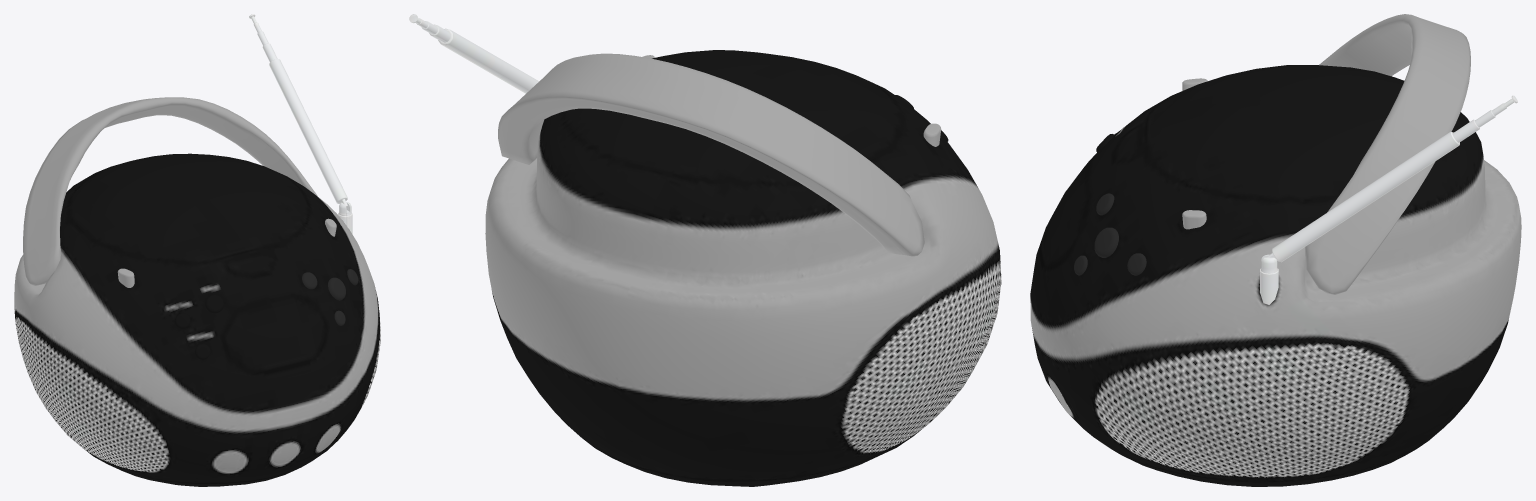
The model's file is BoomBox.glb.
3 renders of one model, left to right at view 1: azimuth 30°, elevation 25°; view 2: azimuth 150°, elevation 25°; view 3: azimuth 270°, elevation 25°, orthographic. The views are drawn at different scales.
Visible parts, largest first — view 1: BoomBox; view 2: BoomBox; view 3: BoomBox.
Part boxes in pixels (box(x1,y1,x2,y2)): BoomBox: box(14, 14, 380, 486); BoomBox: box(409, 14, 1001, 486); BoomBox: box(1030, 14, 1521, 486).
Size of the model in its own units: 0.0198 by 0.0195 by 0.0202.
1 material, 1 textured.
